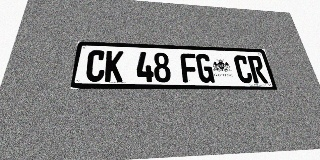4: (137, 52, 154, 82)
8: (153, 52, 171, 82)
C: (85, 50, 106, 82), (233, 55, 254, 83)
F: (180, 53, 199, 83)
G: (195, 54, 215, 83)
K: (104, 51, 124, 82)
R: (247, 56, 268, 83)
